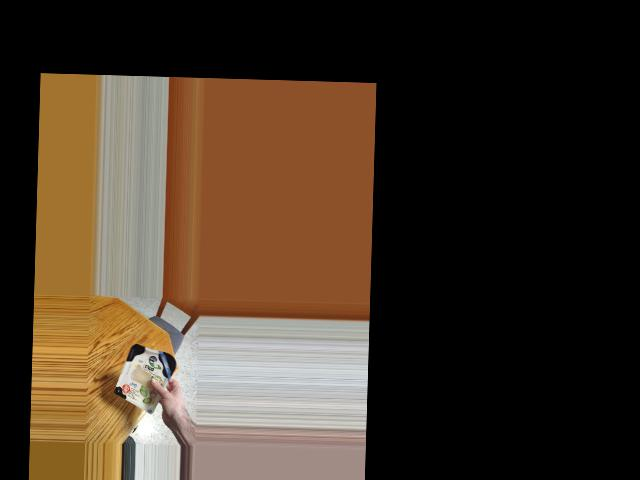cheese: (116, 340, 174, 403)
